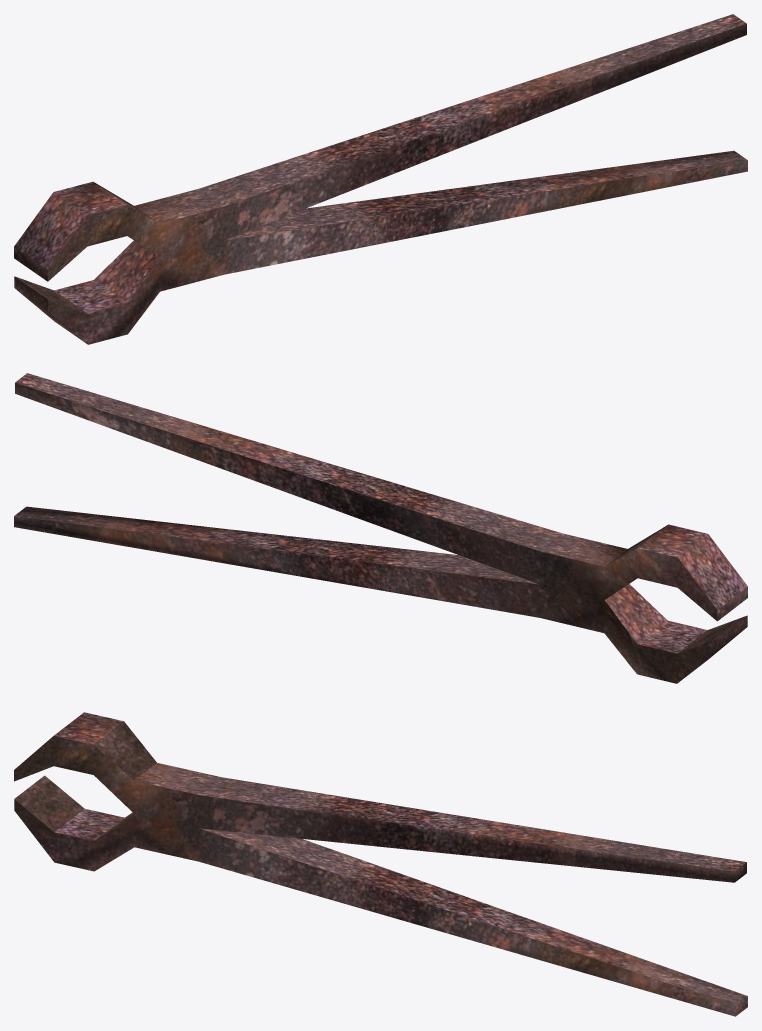
The model's file is pincer.obj.
The picture shows the model from 3 angles, top to bottom: view 1: azimuth 30°, elevation 25°; view 2: azimuth 150°, elevation 25°; view 3: azimuth 330°, elevation 25°; orthographic projection. The views are drawn at different scales.
Visible parts, largest first — view 1: object; view 2: object; view 3: object.
Part boxes in pixels (x1,y1,x2,y2): object: [14, 14, 747, 344]; object: [14, 373, 747, 683]; object: [14, 712, 747, 1016].
Size of the model in its own units: 23.92 by 4.7 by 1.93.
